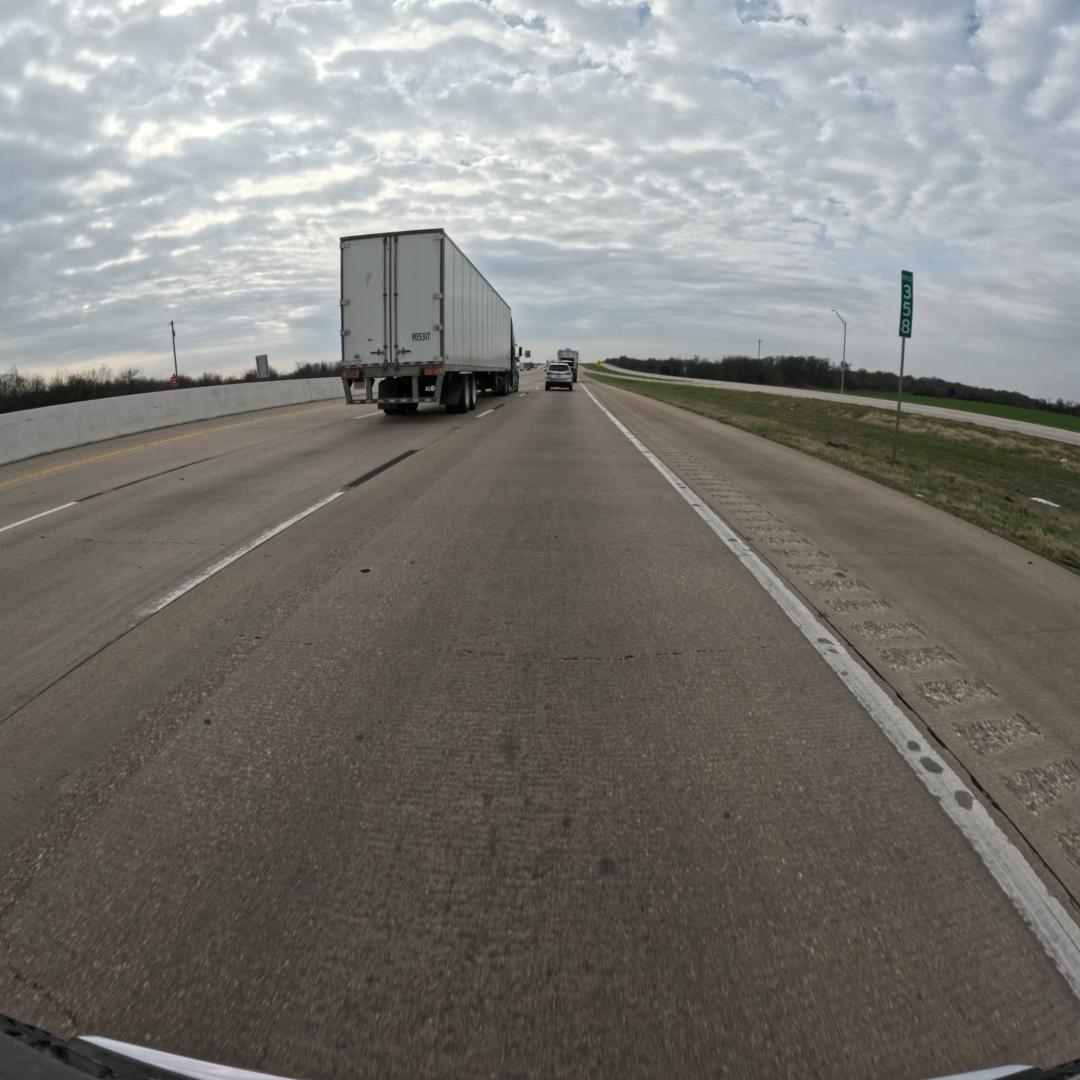lane0: (0, 391, 1080, 1077)
lane1: (0, 408, 478, 724)
